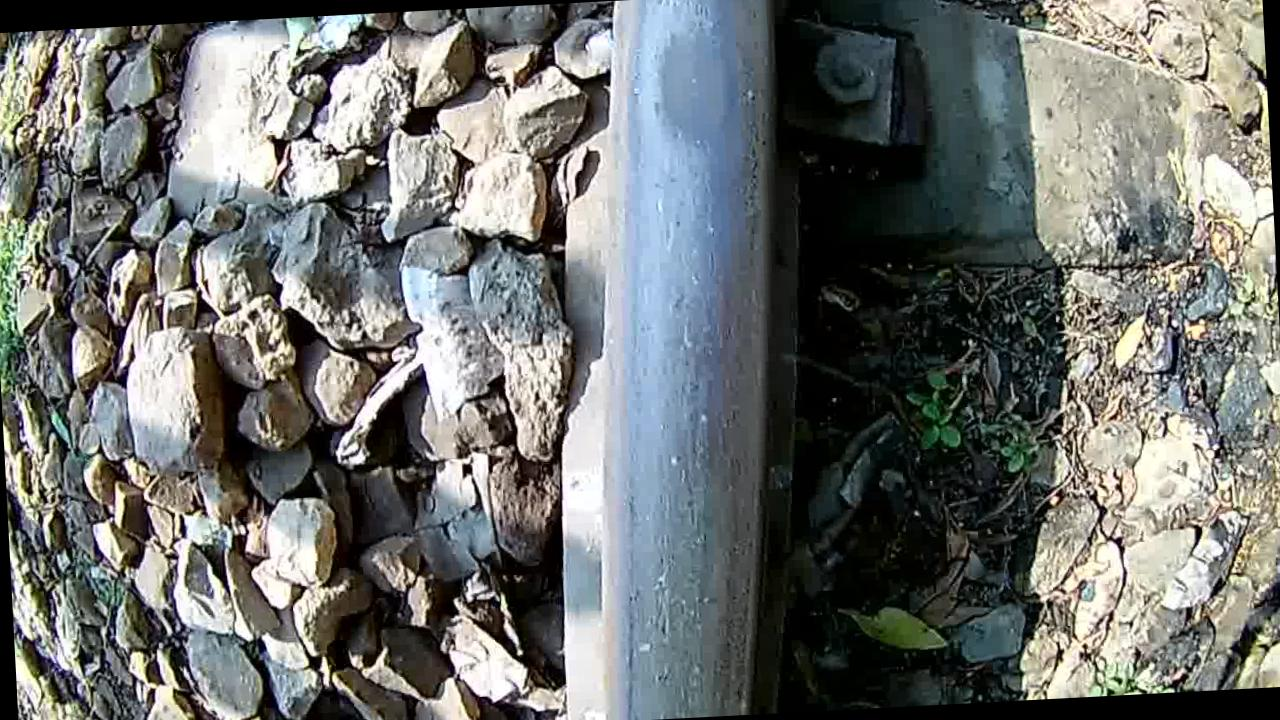bolt_missing: (621, 0, 778, 174)
